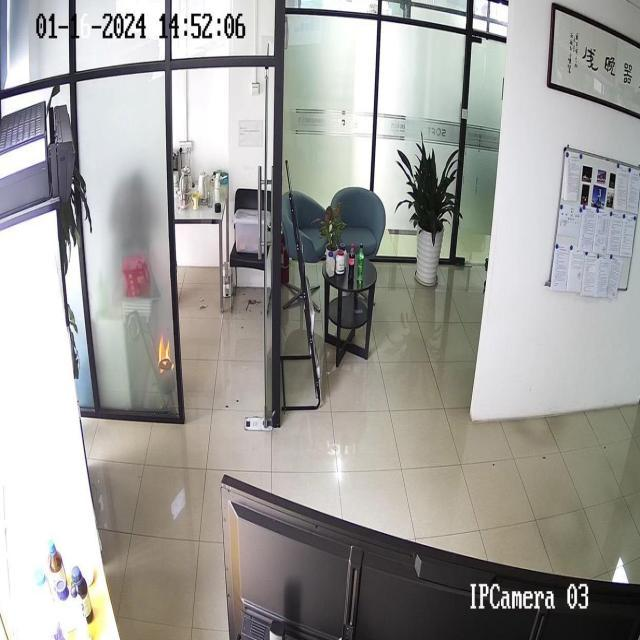smoke: (156, 333, 174, 372)
